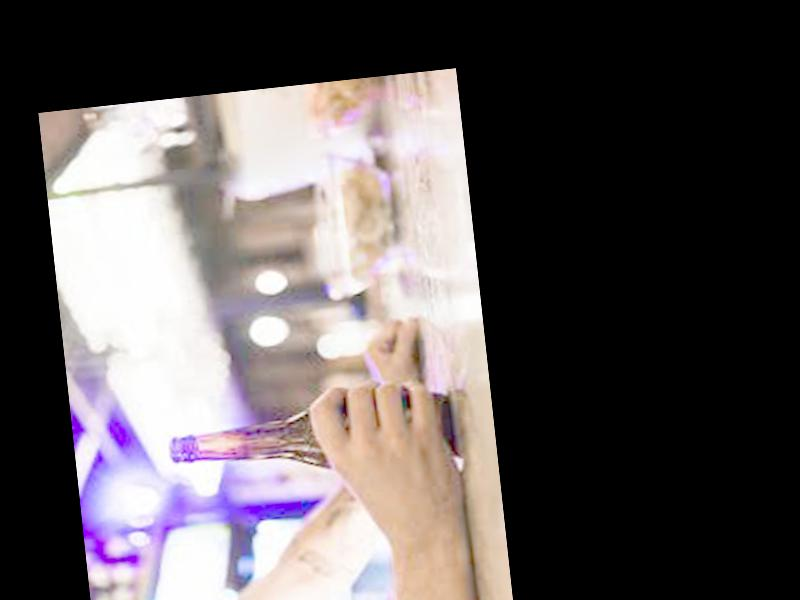Beer: (166, 392, 456, 485)
